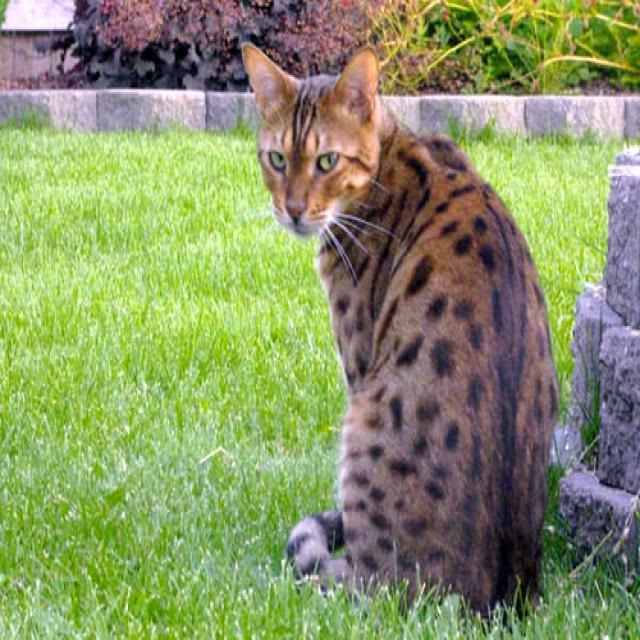Bengal: (240, 39, 378, 237)
